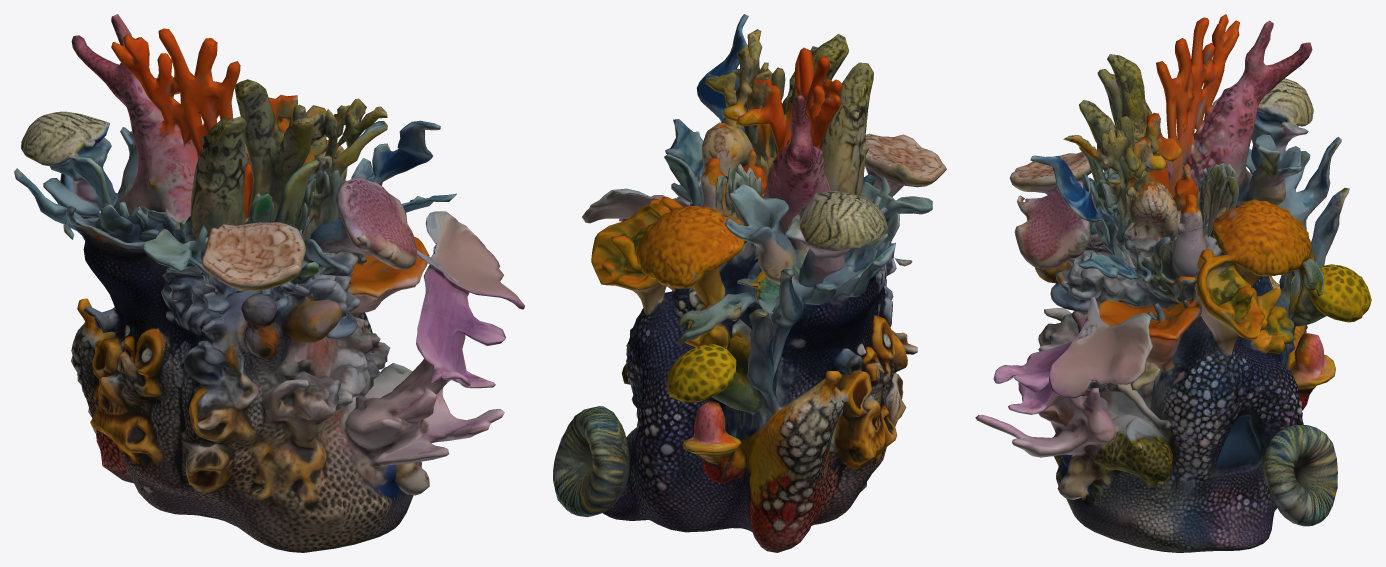
File: coral2.glb
3 renders of one model, left to right at view 1: azimuth 30°, elevation 25°; view 2: azimuth 150°, elevation 25°; view 3: azimuth 270°, elevation 25°, orthographic. The views are drawn at different scales.
Parts seen in each view (by area): view 1: tripo_node_8759ccd1-0d4d-4d6f-a373-cb16a34008bc; view 2: tripo_node_8759ccd1-0d4d-4d6f-a373-cb16a34008bc; view 3: tripo_node_8759ccd1-0d4d-4d6f-a373-cb16a34008bc.
Part boxes in pixels (x1,y1,x2,y2): tripo_node_8759ccd1-0d4d-4d6f-a373-cb16a34008bc: (14,14,524,552); tripo_node_8759ccd1-0d4d-4d6f-a373-cb16a34008bc: (553,14,946,552); tripo_node_8759ccd1-0d4d-4d6f-a373-cb16a34008bc: (975,14,1371,552).
Size of the model in its own units: 0.8207 by 1 by 0.8076.
Materials: 1 (1 with a texture image).
